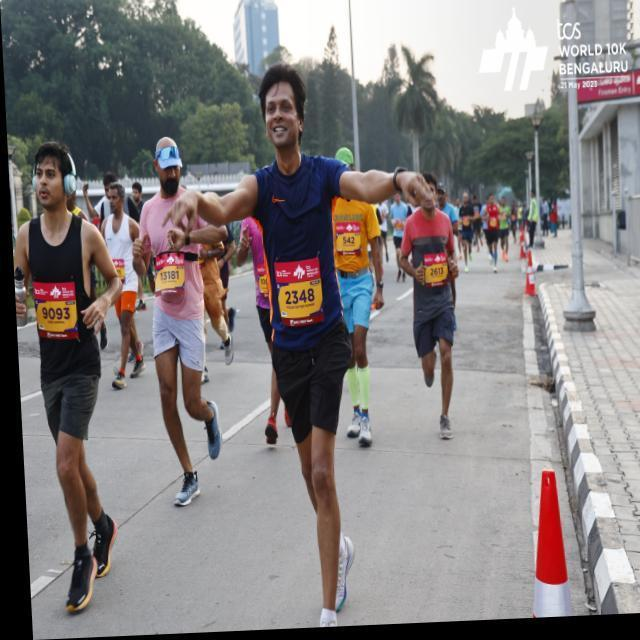dorsal: (270, 261, 324, 330), (28, 279, 78, 348), (150, 250, 183, 302), (329, 217, 361, 258), (418, 254, 448, 292)
